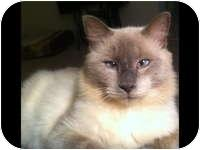siamese: (80, 12, 179, 111)
